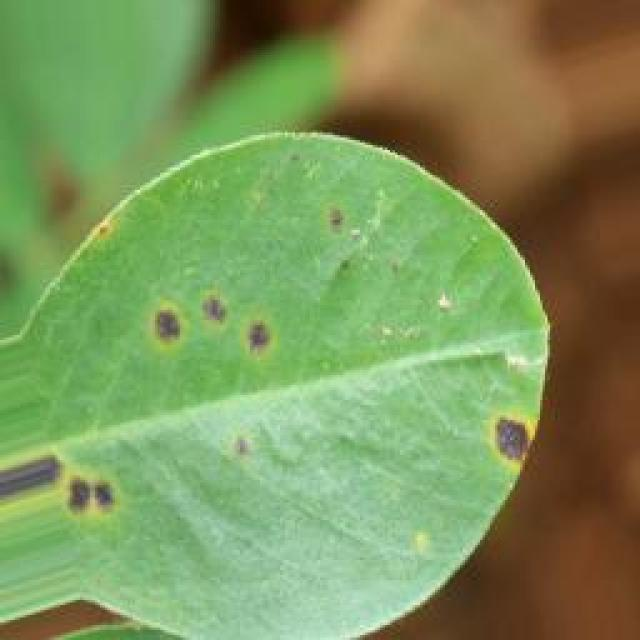Early_leaf_spot: (114, 262, 276, 362), (20, 434, 129, 542), (316, 188, 400, 305), (473, 398, 546, 470), (224, 424, 302, 471), (77, 206, 130, 274)
